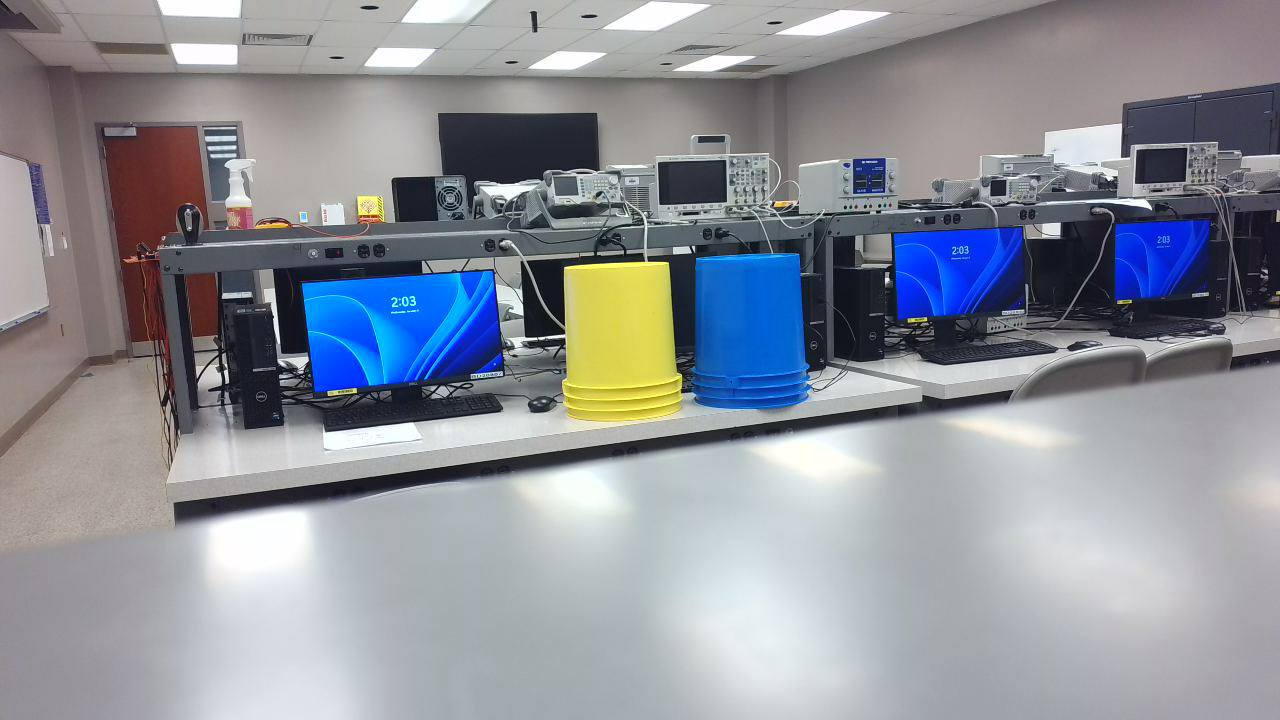blue_bucket: (693, 254, 822, 417)
yellow_bucket: (563, 260, 691, 431)
